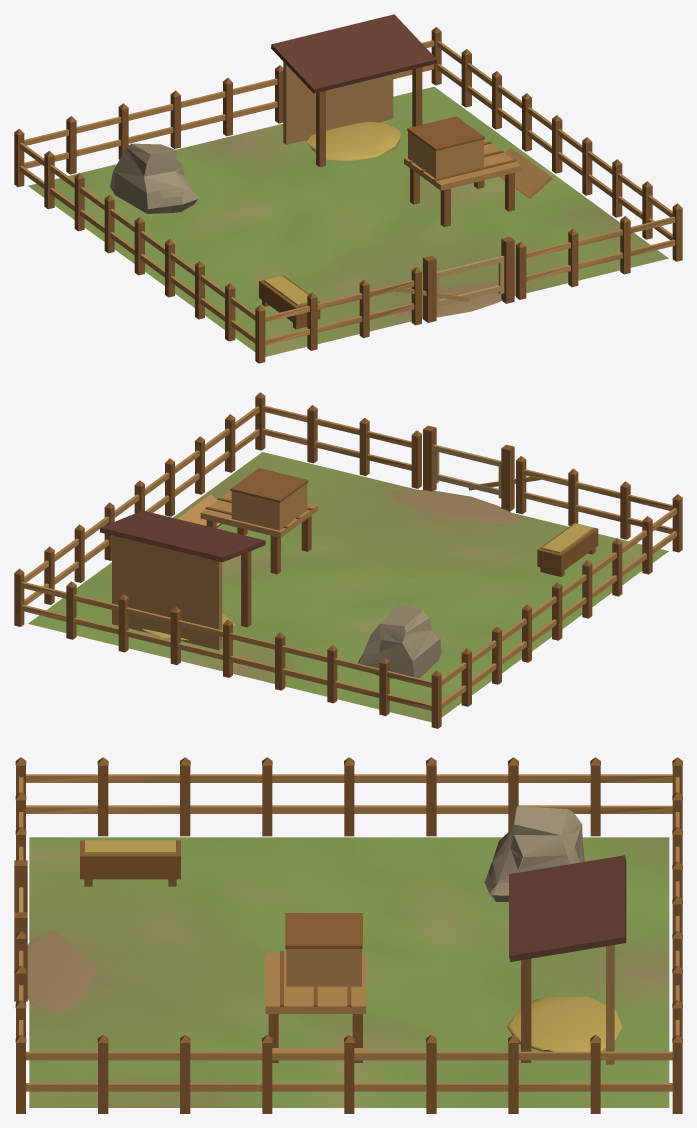
Rendered from goat_yard.glb.
The picture shows the model from 3 angles, top to bottom: view 1: azimuth 30°, elevation 25°; view 2: azimuth 150°, elevation 25°; view 3: azimuth 270°, elevation 25°; orthographic projection. The views are drawn at different scales.
Parts seen in each view (by area): view 1: home-goat_yard, home-goat_yard-far; view 2: home-goat_yard, home-goat_yard-far; view 3: home-goat_yard, home-goat_yard-far.
Part boxes in pixels (<box>): home-goat_yard: <box>14,14,682,356</box>; home-goat_yard-far: <box>14,27,682,363</box>; home-goat_yard: <box>14,392,682,715</box>; home-goat_yard-far: <box>14,392,682,728</box>; home-goat_yard: <box>14,757,682,1113</box>; home-goat_yard-far: <box>14,757,682,1113</box>.
Bounding box in the file's own units: 7.93 × 1.8 × 7.95.
